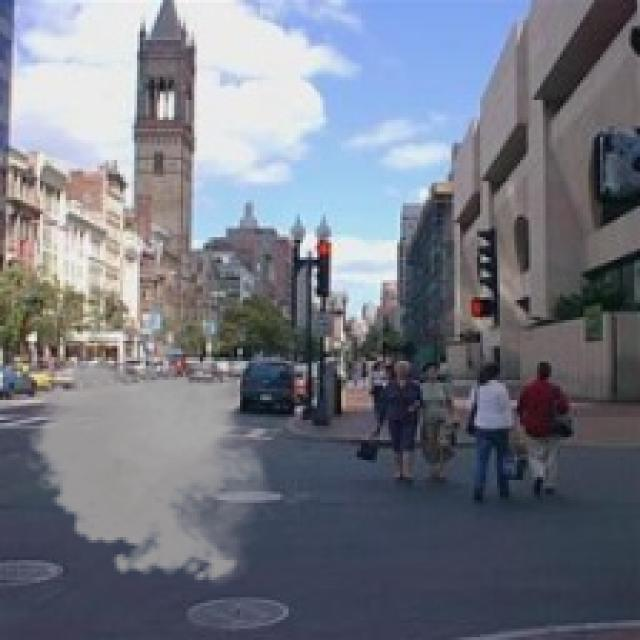Smoke: (20, 354, 280, 589)
